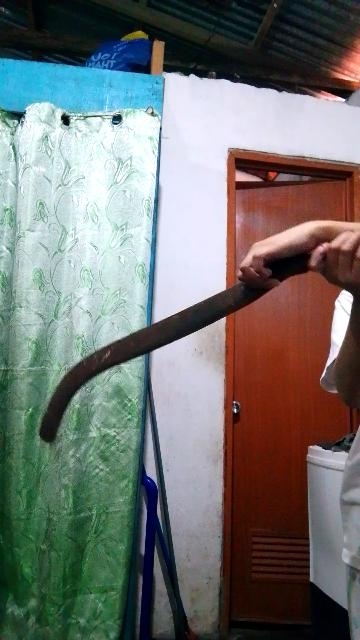long knife: (23, 228, 338, 446)
